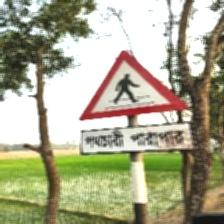Pedestrian-crossing: (78, 49, 194, 156)
